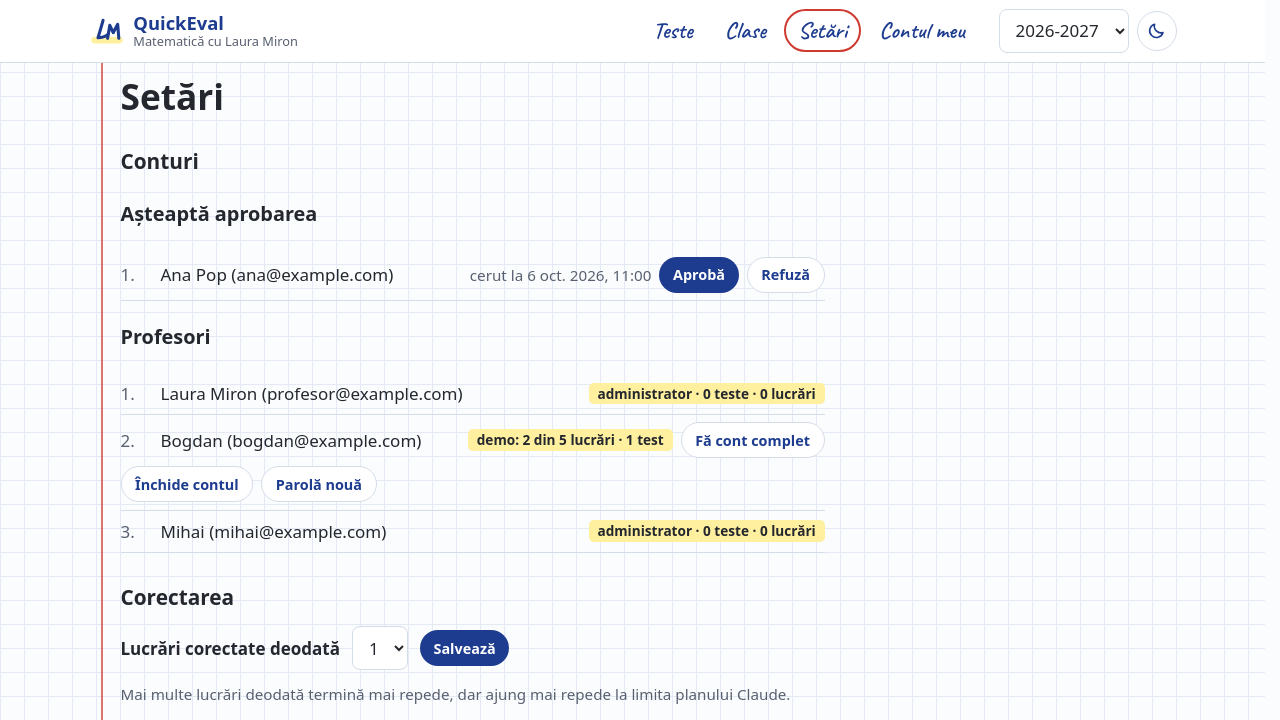
it: the accounts on Setări › shows the kind of each account and makes a demo account complete
Expected: the text "administrator · 0 teste · 0 lucrări" is shown 2 times, [589,382,824,404]; [589,520,824,542]
Expected: the text "demo: 2 din 5 lucrări · 1 test" is shown, [468,430,673,451]
Click the button with aria-label "Fă cont complet: Bogdan".
click(752, 440)  # box [680,422,824,458]
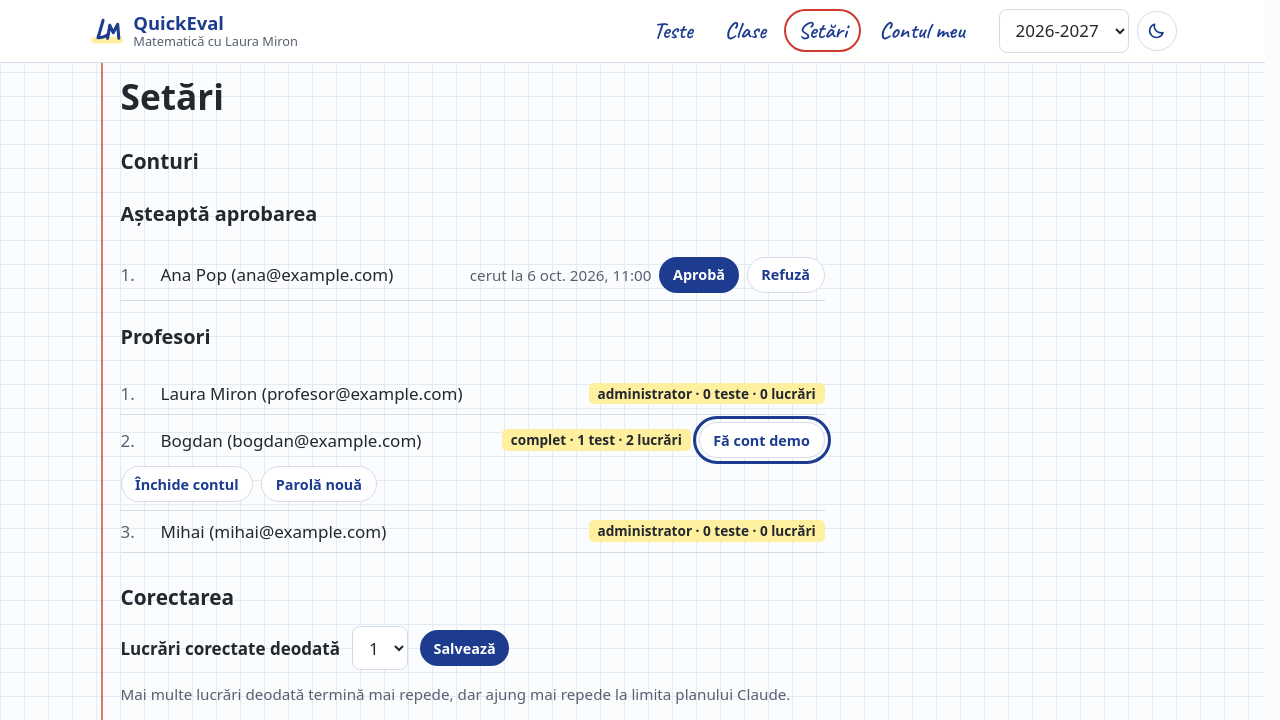
Expected: the text "complet · 1 test · 2 lucrări" is shown, [502,430,691,451]
